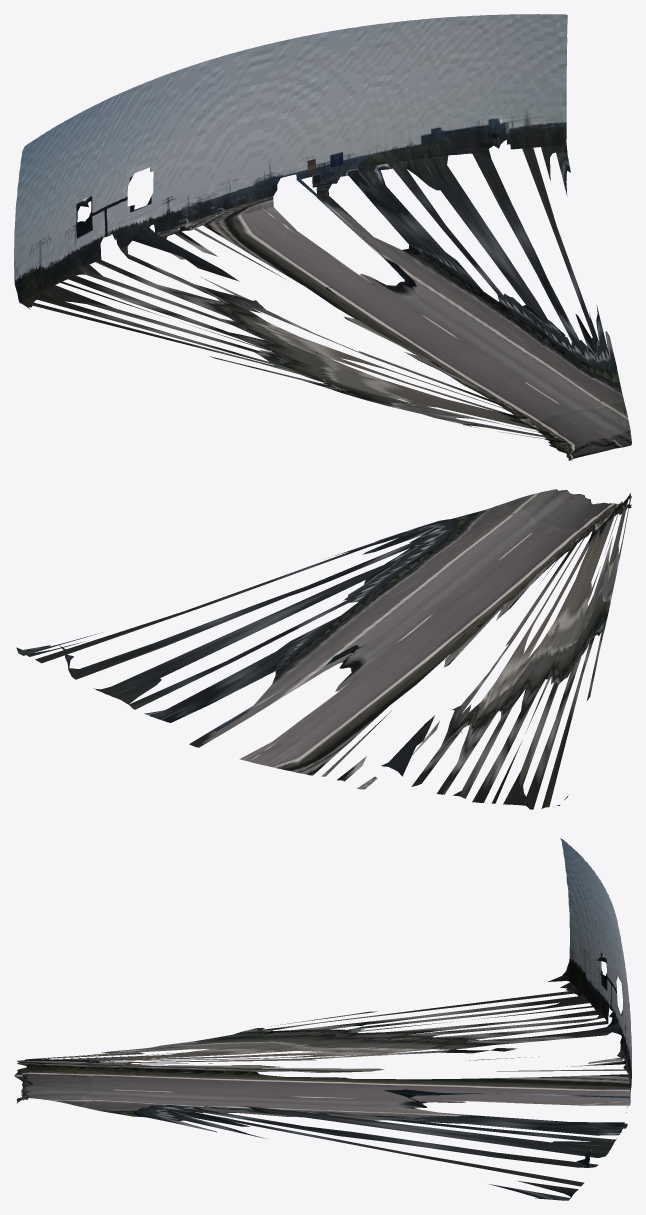
3 views of the same model, one above another, from view 1: azimuth 30°, elevation 25°; view 2: azimuth 150°, elevation 25°; view 3: azimuth 270°, elevation 25° (orthographic). The views are drawn at different scales.
Parts seen in each view (by area): view 1: defaultobject; view 2: defaultobject; view 3: defaultobject.
Part boxes in pixels (x1,y1,x2,y2): defaultobject: (14, 14, 631, 460); defaultobject: (16, 489, 631, 809); defaultobject: (14, 838, 631, 1200).
Size of the model in its own units: 41.16 by 12.64 by 44.62.
1 material, 1 textured.
